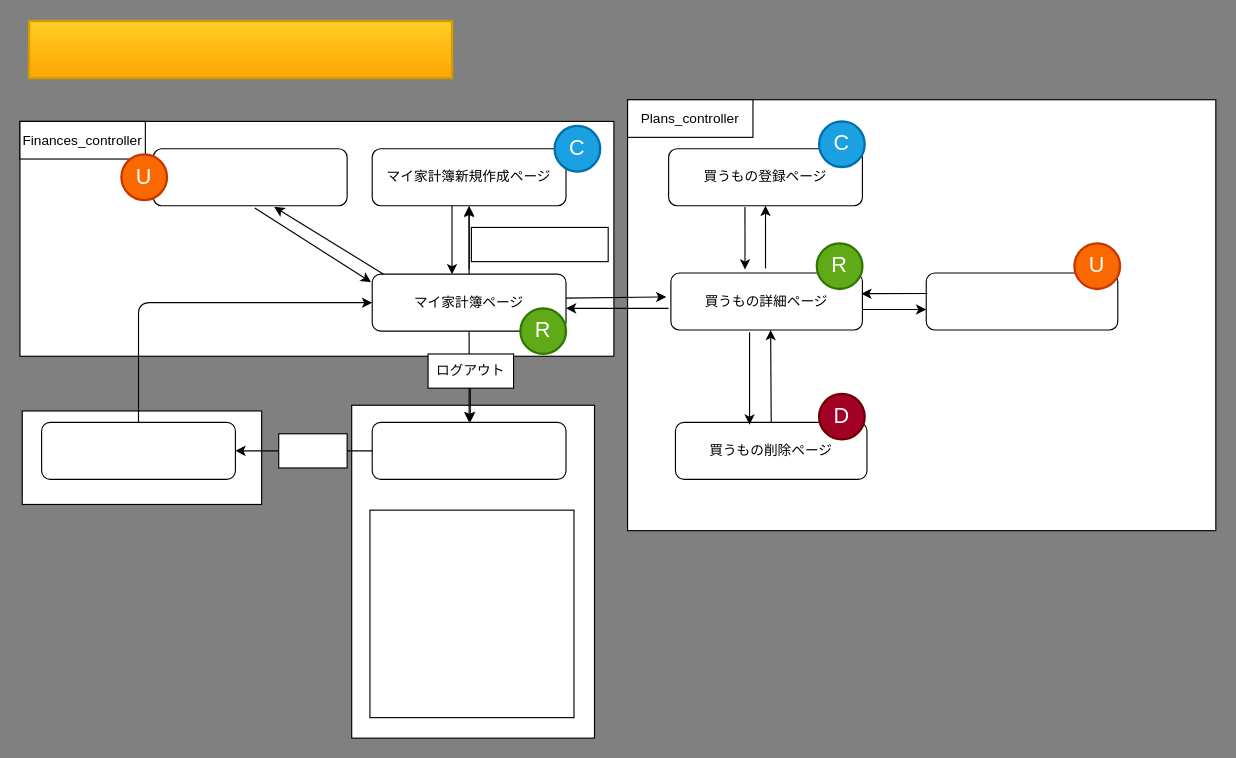
Image size: 1236x758. Some labels were removed from this diagram. Each missing label, with the centre of its shape:
"みんなの節約術etc コメント機能後日実装？？" goes at point 471,613.
"サインインページ" goes at point 137,450.
"トップページ アプリ説明図" goes at point 468,450.
"マイ家計簿編集ページ" goes at point 249,177.
"ログイン" goes at point 312,450.
"作成は１回のみ" goes at point 539,244.
"画面遷移図" goes at point 240,49.
"買うもの編集ページ" goes at point 1021,301.
